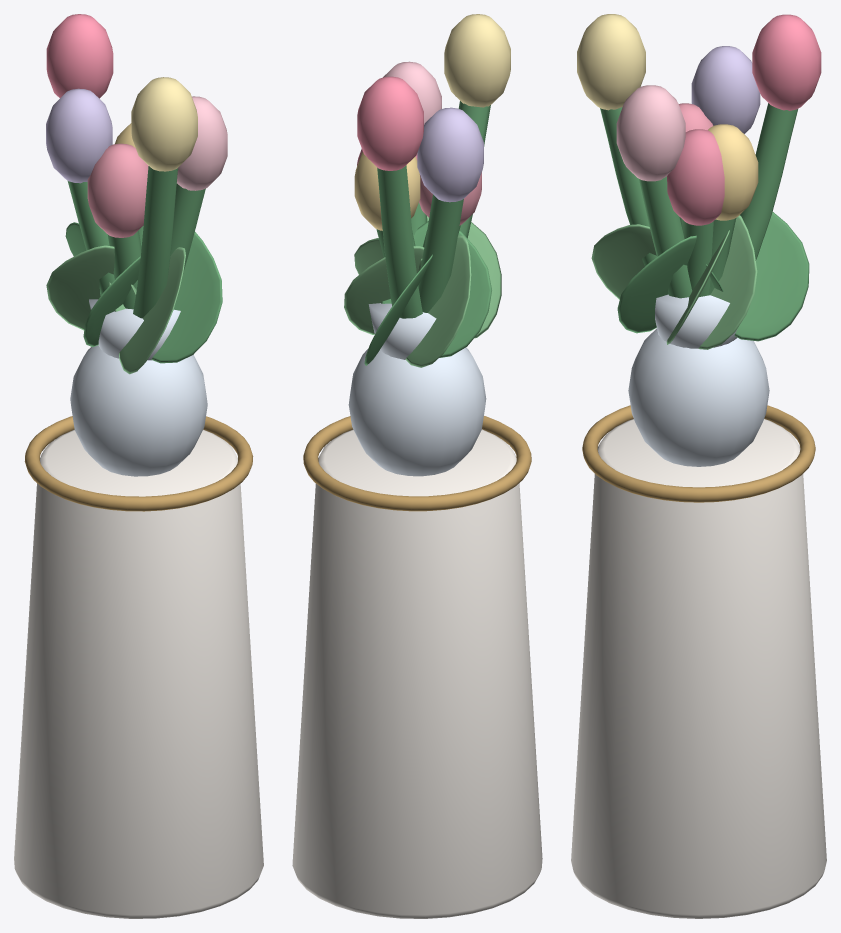
The model's file is furn_flower.glb.
The picture shows the model from 3 angles, left to right: view 1: azimuth 30°, elevation 25°; view 2: azimuth 150°, elevation 25°; view 3: azimuth 270°, elevation 25°; orthographic projection. The views are drawn at different scales.
Parts seen in each view (by area): view 1: Cone; view 2: Cone; view 3: Cone.
Boxes of the visible parts, x1,y1,x2,y2 form: Cone: (14, 14, 263, 918); Cone: (292, 14, 542, 918); Cone: (571, 14, 826, 918).
Size of the model in its own units: 0.3987 by 1.45 by 0.3987.
